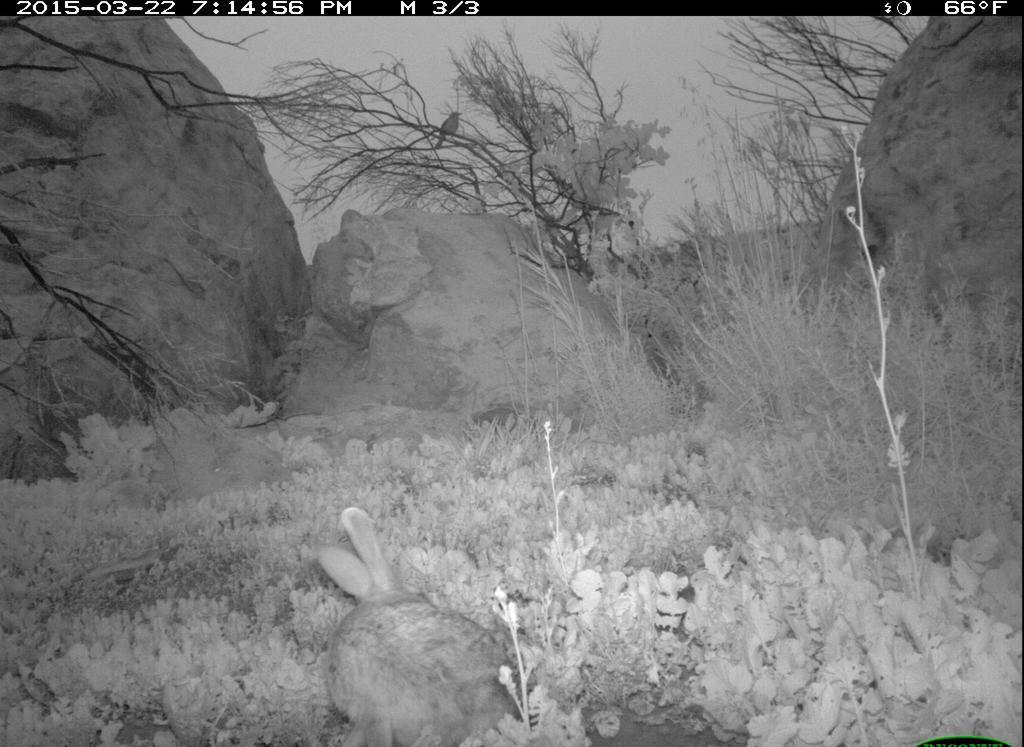bird: (429, 107, 469, 154)
